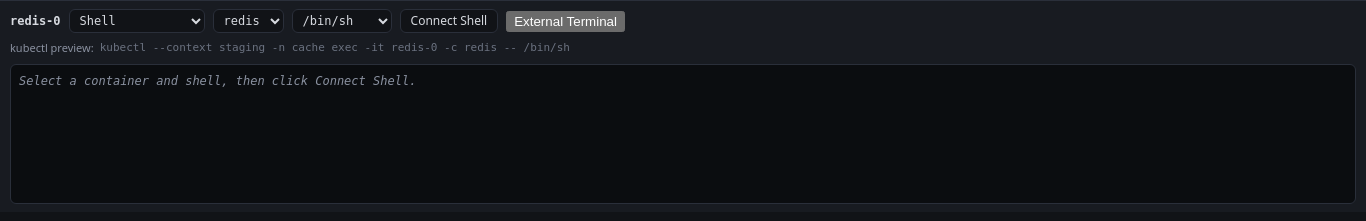
Test: P1-02, P1-03, P1-09, P1-10, P1-13 Ops panels and diagnostics › 04-03c: ExecShellPanel allows switching between exec and attach mode via the mode dropdown
Expected: the dropdown named "Select shell" is shown, [292, 9, 392, 33]
Expected: the element with test id "exec-preview" shows "kubectl --context staging -n cache exec -it redis-0 -c redis -- /bin/sh", [100, 41, 570, 54]
Select "Attach (PID 1)" in the dropdown named "Select mode" at (137,21), box [69, 9, 205, 33]
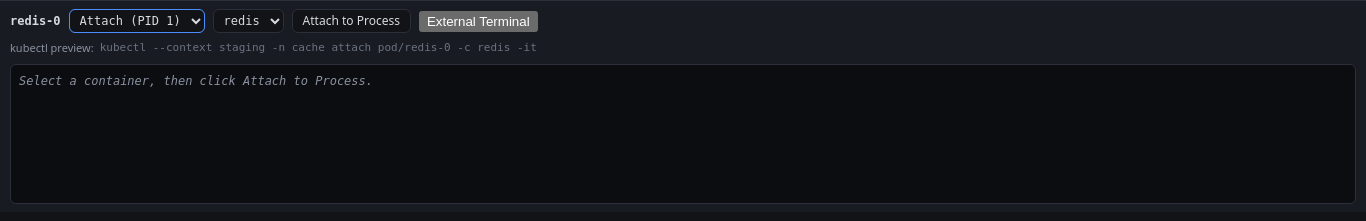
Expected: the element with test id "attach-preview" shows "kubectl --context staging -n cache attach pod/redis-0 -c redis -it", [100, 41, 537, 54]
Expected: the button with test id "attach-connect-btn" reads "Attach to Process", [292, 9, 411, 33]
